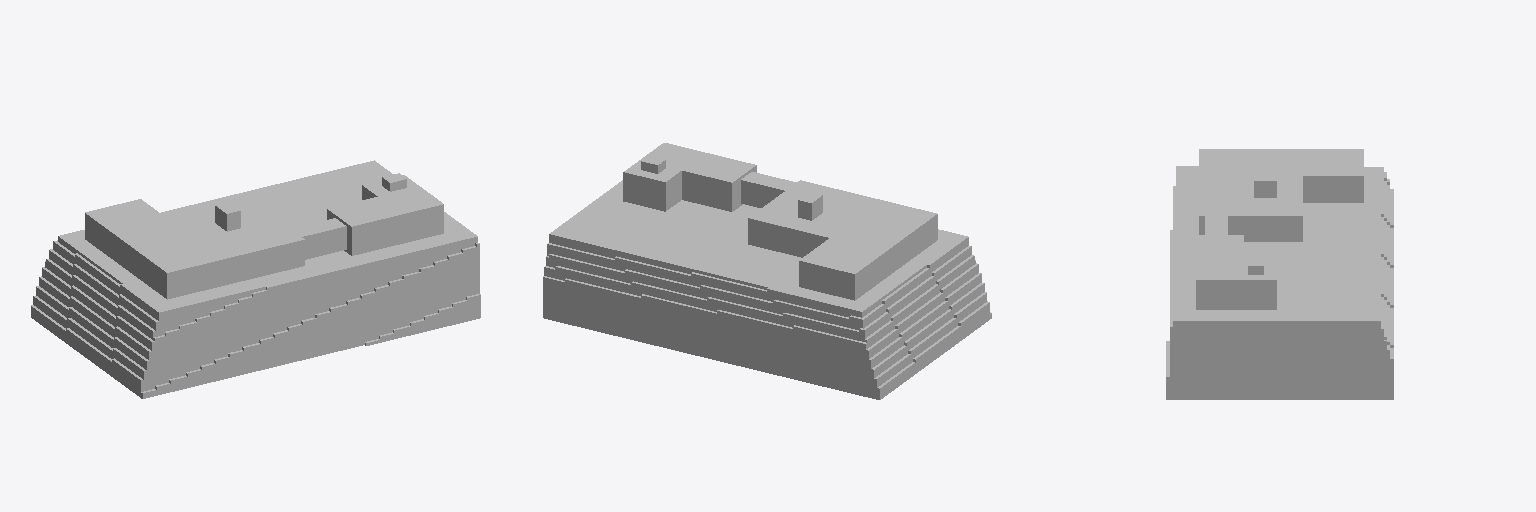
The model's file is comparaiso.obj.
The picture shows the model from 3 angles: view 1: azimuth 30°, elevation 25°; view 2: azimuth 150°, elevation 25°; view 3: azimuth 270°, elevation 25°; orthographic projection.
Visible parts, largest first — view 1: object 1; view 2: object 1; view 3: object 1.
Part boxes in pixels (x1,y1,x2,y2): object 1: (31,160,480,398); object 1: (543,143,991,399); object 1: (1166,149,1393,399).
Bounding box in the file's own units: 12 × 4.2 × 7.